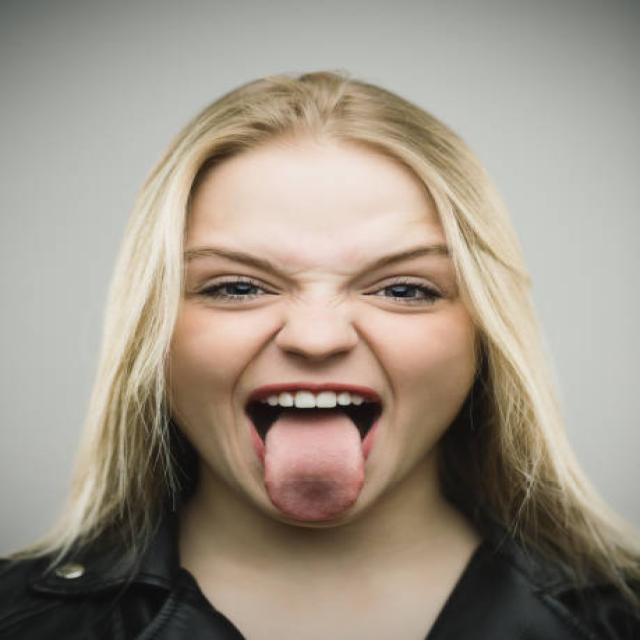tongue: (251, 414, 384, 529)
